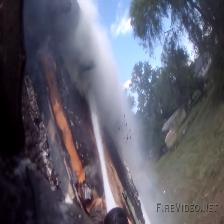smoke: (20, 0, 162, 224)
